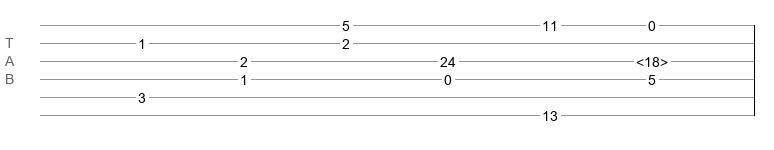0: (444, 72, 452, 82), (648, 18, 656, 28)
1: (138, 36, 146, 46), (240, 72, 248, 82)
11: (542, 18, 558, 28)
13: (542, 108, 558, 118)
2: (240, 54, 248, 64), (342, 36, 350, 46)
24: (440, 54, 456, 64)
3: (138, 90, 146, 100)
5: (342, 18, 350, 28), (648, 72, 656, 82)
harmonic: (636, 54, 668, 64)
